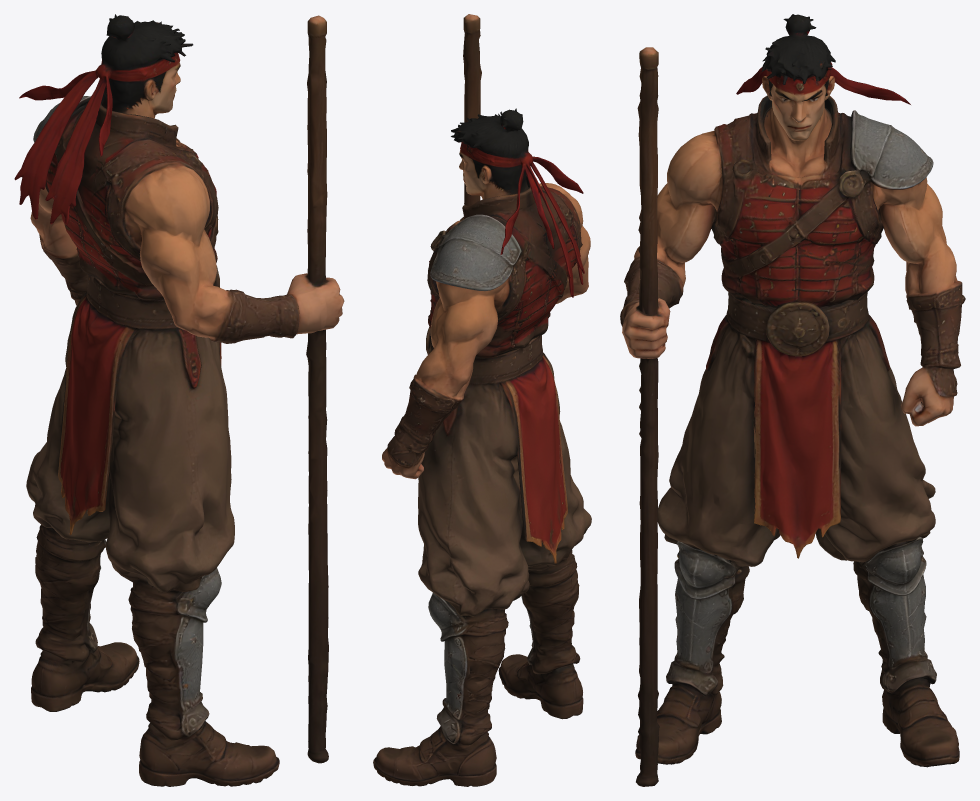
Rendered from vanguard2_T1-tripo.glb.
The picture shows the model from 3 angles, left to right: view 1: azimuth 30°, elevation 25°; view 2: azimuth 150°, elevation 25°; view 3: azimuth 270°, elevation 25°; orthographic projection. The views are drawn at different scales.
Parts seen in each view (by area): view 1: tripo_node_294f37e1-b2aa-4aa6-905a-416cd009a482; view 2: tripo_node_294f37e1-b2aa-4aa6-905a-416cd009a482; view 3: tripo_node_294f37e1-b2aa-4aa6-905a-416cd009a482.
Boxes of the visible parts, x1=… form: tripo_node_294f37e1-b2aa-4aa6-905a-416cd009a482: x1=14, y1=14, x2=344, y2=786; tripo_node_294f37e1-b2aa-4aa6-905a-416cd009a482: x1=373, y1=14, x2=591, y2=786; tripo_node_294f37e1-b2aa-4aa6-905a-416cd009a482: x1=620, y1=14, x2=965, y2=786.
Bounding box in the file's own units: 0.3171 × 1 × 0.421.
1 material, 1 textured.
